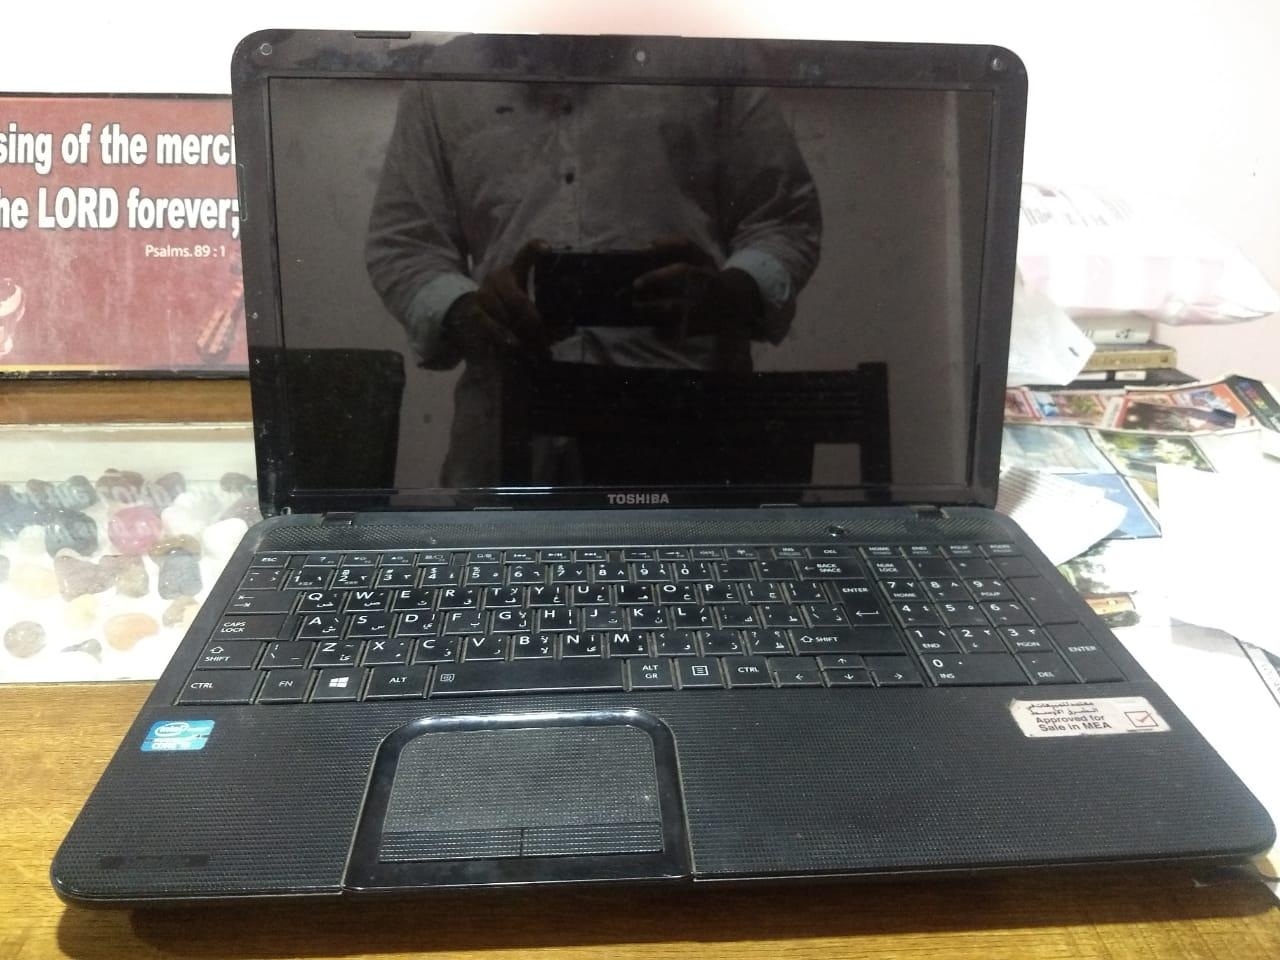laptop: (43, 18, 1280, 925)
